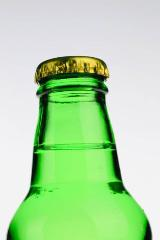glass: (5, 52, 154, 239)
